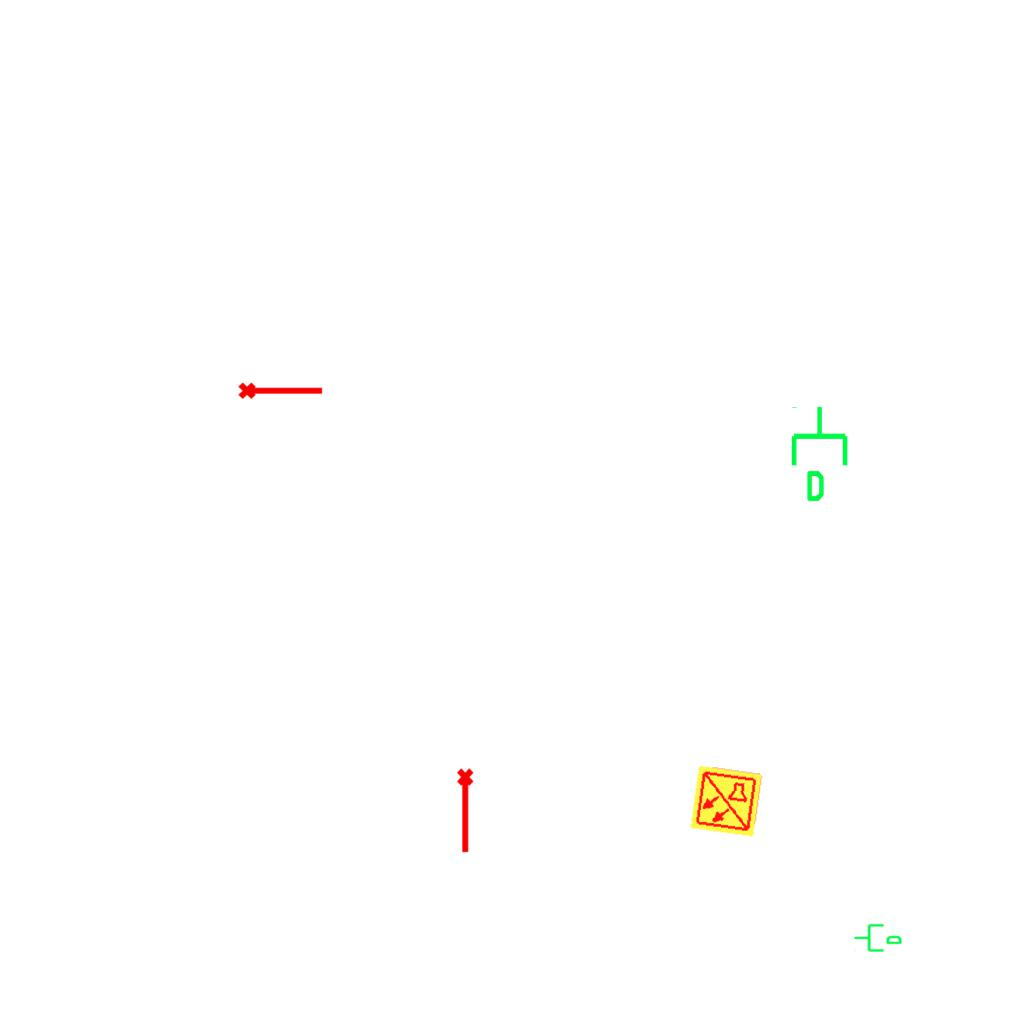ASR_Ansaugoeffnung: (455, 767, 478, 855), (237, 378, 325, 401)
Datenanschluss_einfach: (787, 404, 856, 504), (853, 920, 903, 954)
OKW_Multisensormelder_(Kombination_optischer_Rauch-Kahlenmonoxid_Waerme-Melder): (688, 763, 764, 839)
